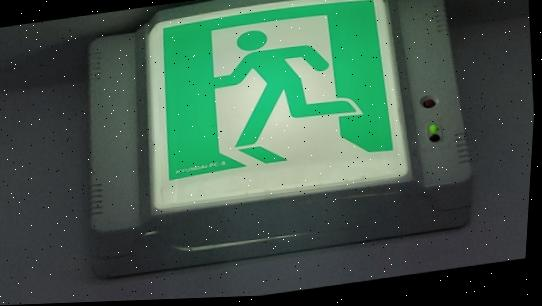emergency_exit: (85, 0, 474, 278), (144, 0, 413, 213)
